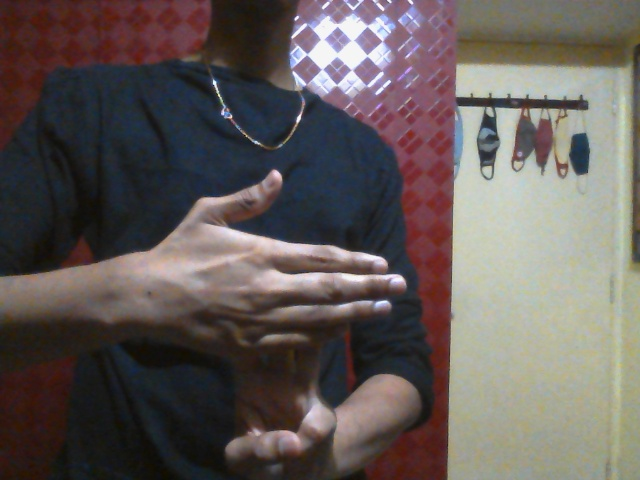M: (165, 166, 408, 480)
